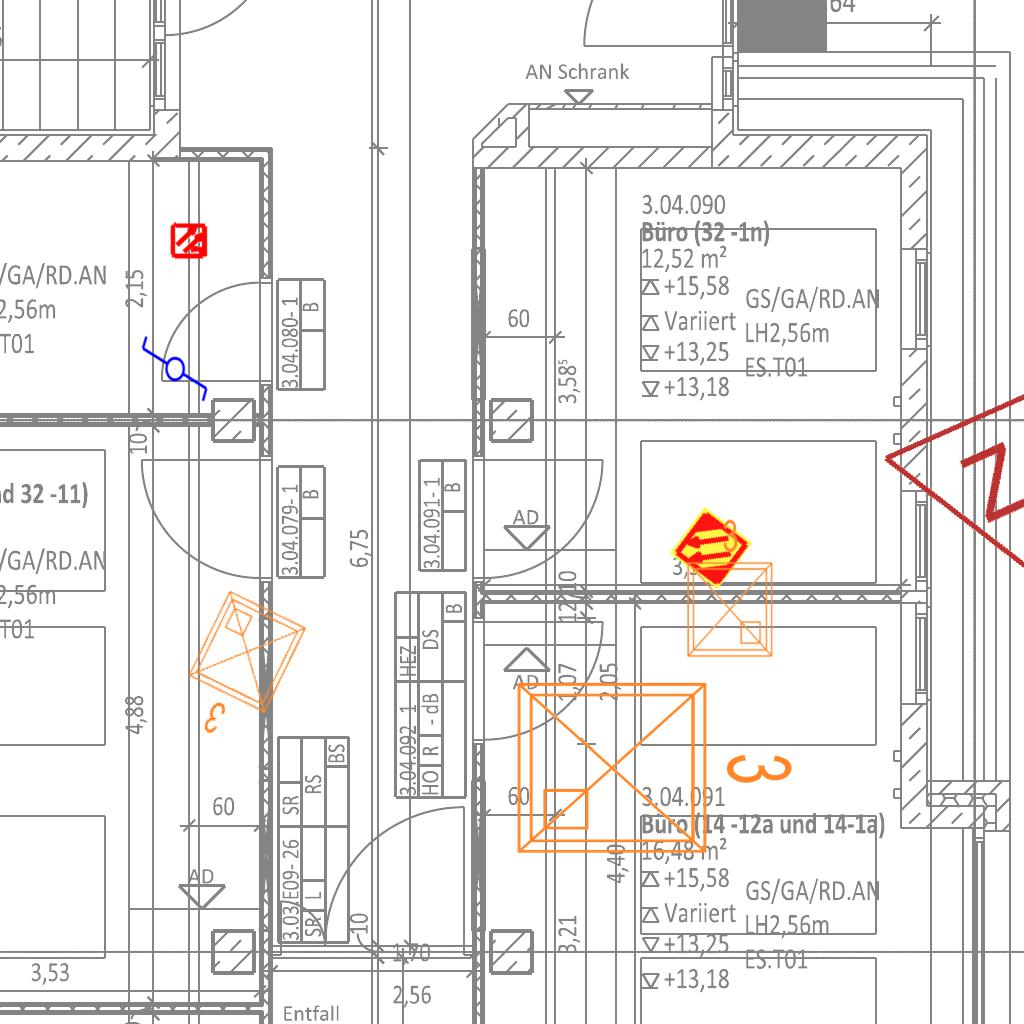ASR_Ansaugrauchmelder: (667, 504, 755, 592)
Einbaudownlights_LED_Konferenzraeume: (503, 660, 803, 868), (160, 580, 320, 762), (676, 514, 780, 664)
OT_Multisensormelder_(Kombination_RMO_WMD): (161, 212, 219, 270)
Wechselschalter: (138, 334, 210, 412)
Zimmersignalleuchte: (873, 364, 1024, 628)
